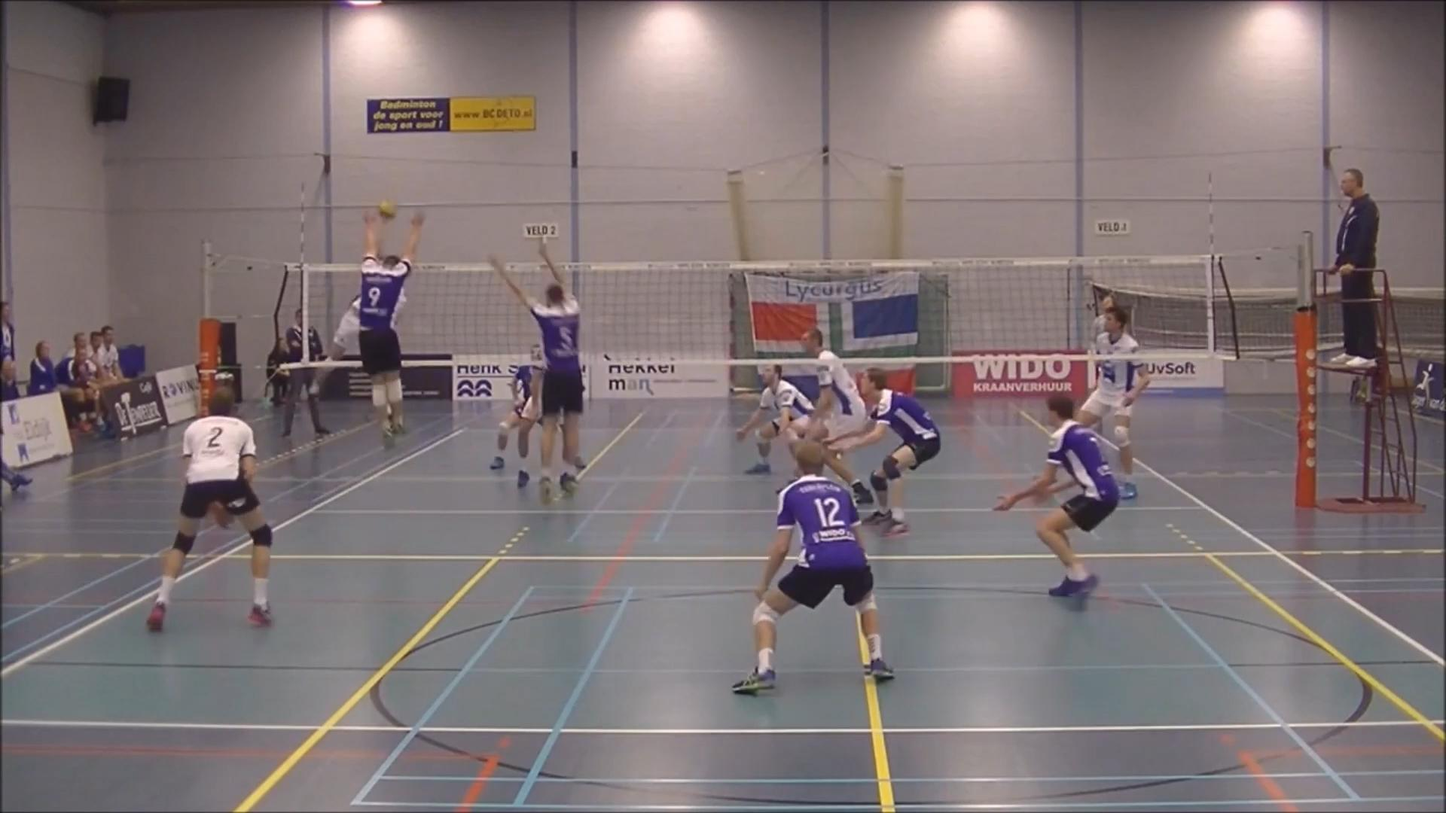attacco: (296, 218, 362, 403)
muro: (478, 245, 605, 499), (338, 211, 422, 454)
